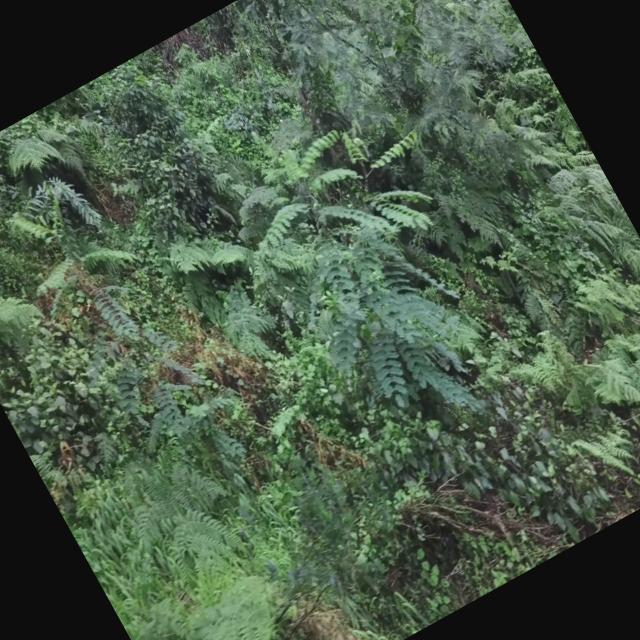Mysore-Thorn-Weed: (212, 113, 522, 485), (44, 236, 260, 504)
